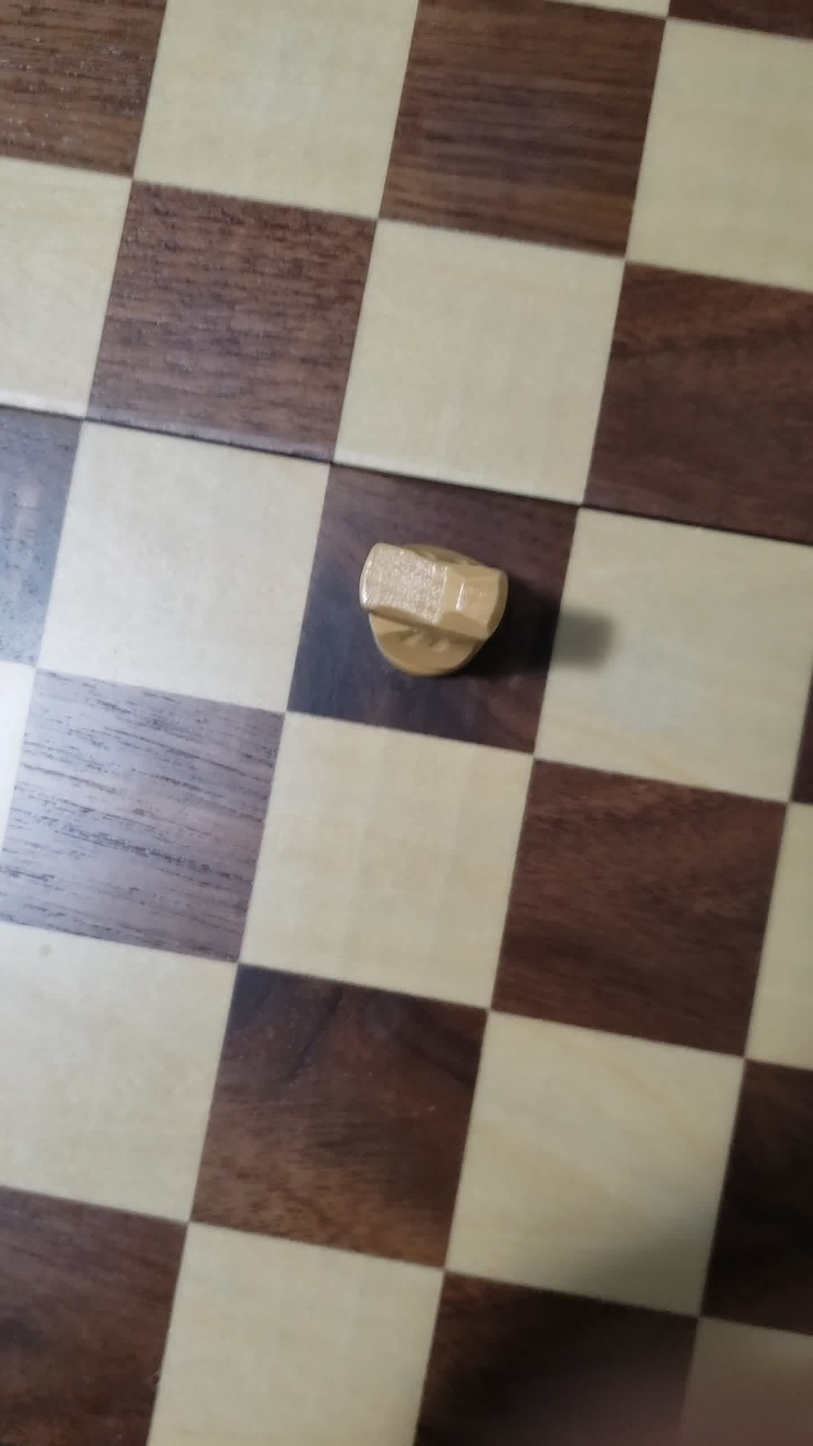white-knight: (344, 478, 530, 725)
